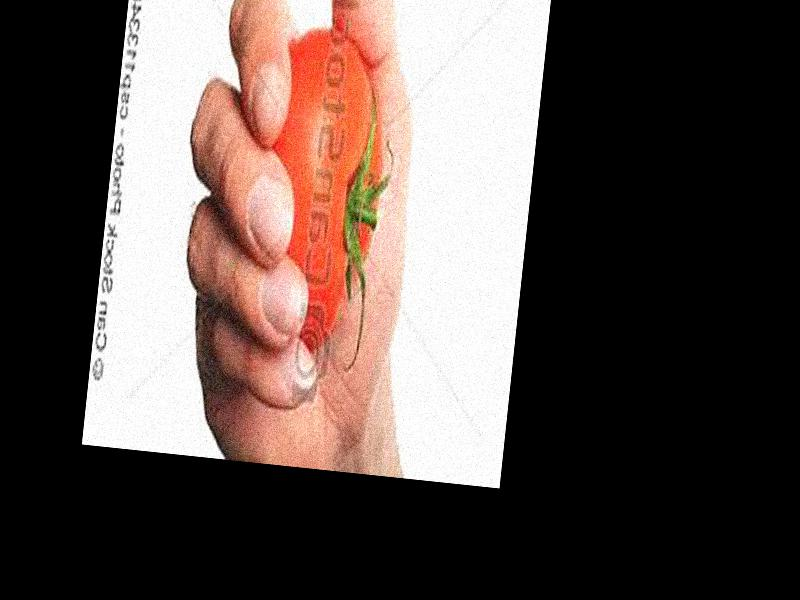Tomato: (255, 25, 394, 353)
